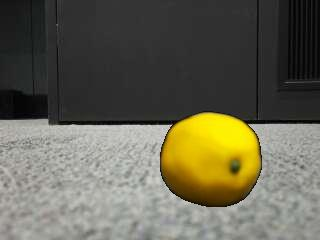lemon: (160, 113, 261, 207)
